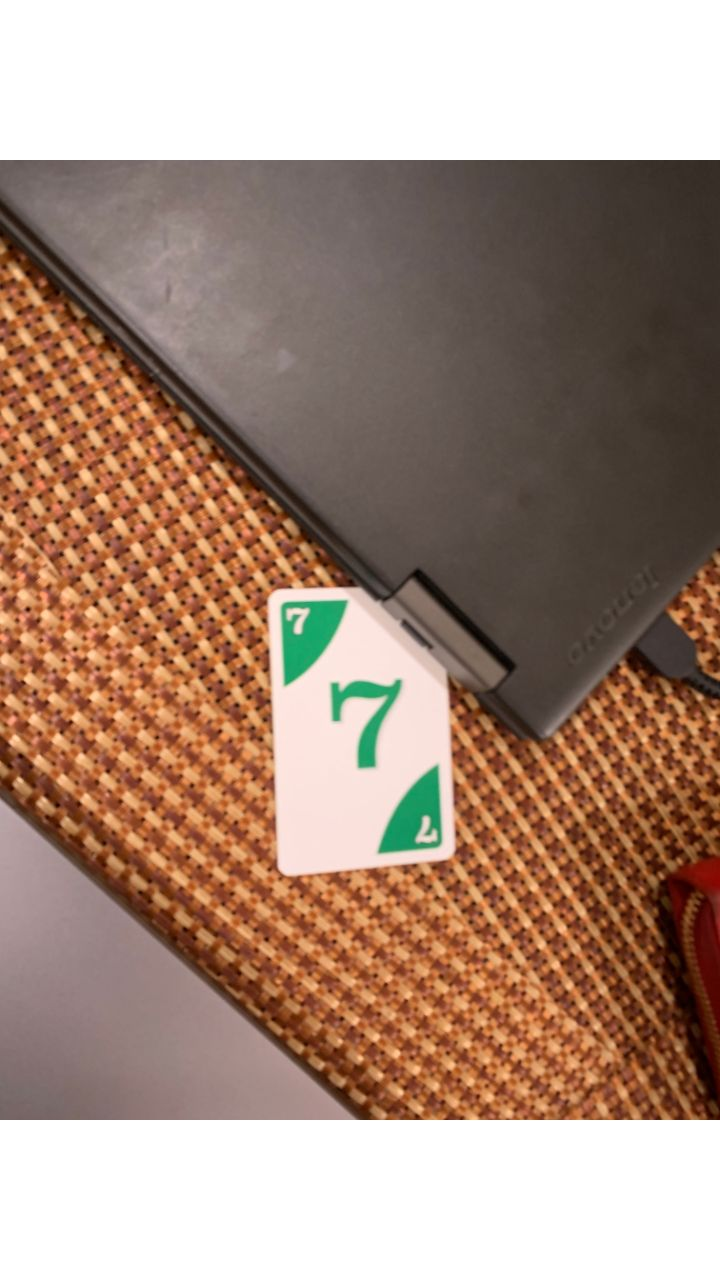seven: (264, 583, 459, 878)
